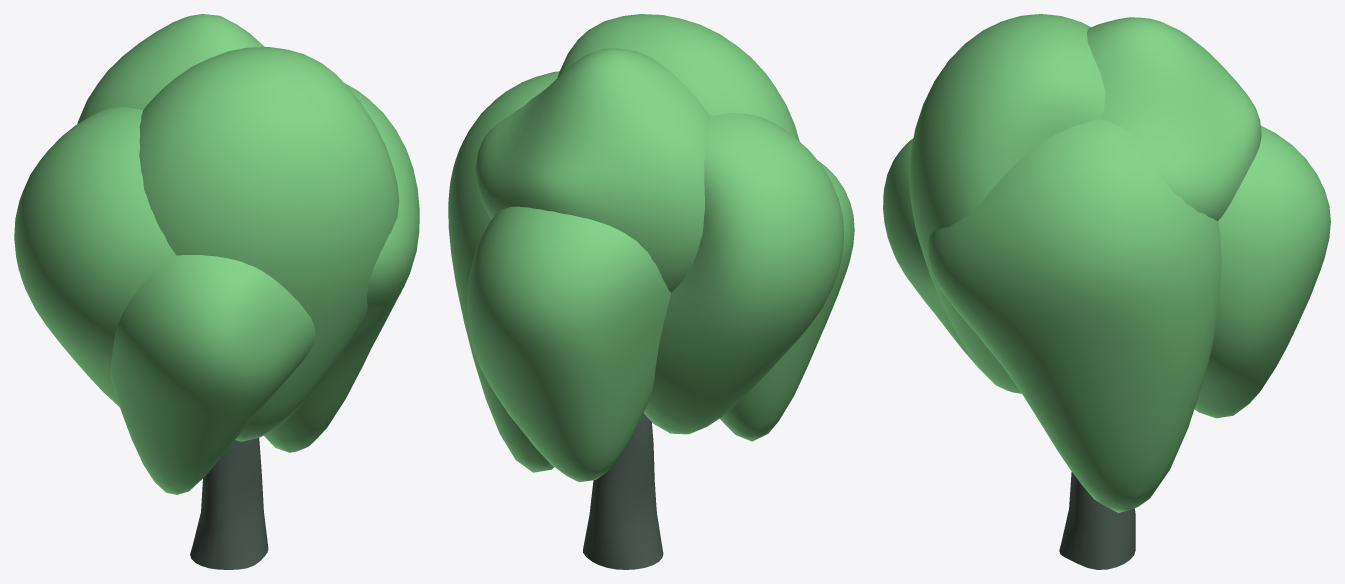
The model's file is DisgustLv3.glb.
3 renders of one model, left to right at view 1: azimuth 30°, elevation 25°; view 2: azimuth 150°, elevation 25°; view 3: azimuth 270°, elevation 25°, orthographic. The views are drawn at different scales.
Parts seen in each view (by area): view 1: GeoSphere038, GeoSphere039, GeoSphere037, GeoSphere036, GeoSphere041, Batang018; view 2: GeoSphere040, GeoSphere037, GeoSphere041, GeoSphere038, GeoSphere036, Batang018, GeoSphere039; view 3: GeoSphere036, GeoSphere038, GeoSphere040, GeoSphere041, Batang018, GeoSphere039.
Part boxes in pixels (left/top/right/bottom): GeoSphere038: left=139, top=47, right=399, bottom=441; GeoSphere039: left=110, top=255, right=315, bottom=494; GeoSphere037: left=14, top=107, right=176, bottom=407; GeoSphere036: left=264, top=83, right=419, bottom=452; GeoSphere041: left=77, top=14, right=264, bottom=123; Batang018: left=190, top=437, right=268, bottom=569; GeoSphere040: left=467, top=206, right=670, bottom=482; GeoSphere037: left=643, top=113, right=844, bottom=434; GeoSphere041: left=475, top=48, right=710, bottom=292; GeoSphere038: left=557, top=14, right=799, bottom=141; GeoSphere036: left=448, top=71, right=559, bottom=472; Batang018: left=583, top=413, right=663, bottom=569; GeoSphere039: left=719, top=161, right=854, bottom=441; GeoSphere036: left=927, top=119, right=1221, bottom=512; GeoSphere038: left=909, top=14, right=1105, bottom=393; GeoSphere040: left=1194, top=126, right=1330, bottom=418; GeoSphere041: left=1087, top=17, right=1261, bottom=220; Batang018: left=1059, top=472, right=1135, bottom=569; GeoSphere039: left=883, top=138, right=978, bottom=367.
Size of the model in its own units: 1.3 by 1.77 by 1.36.
